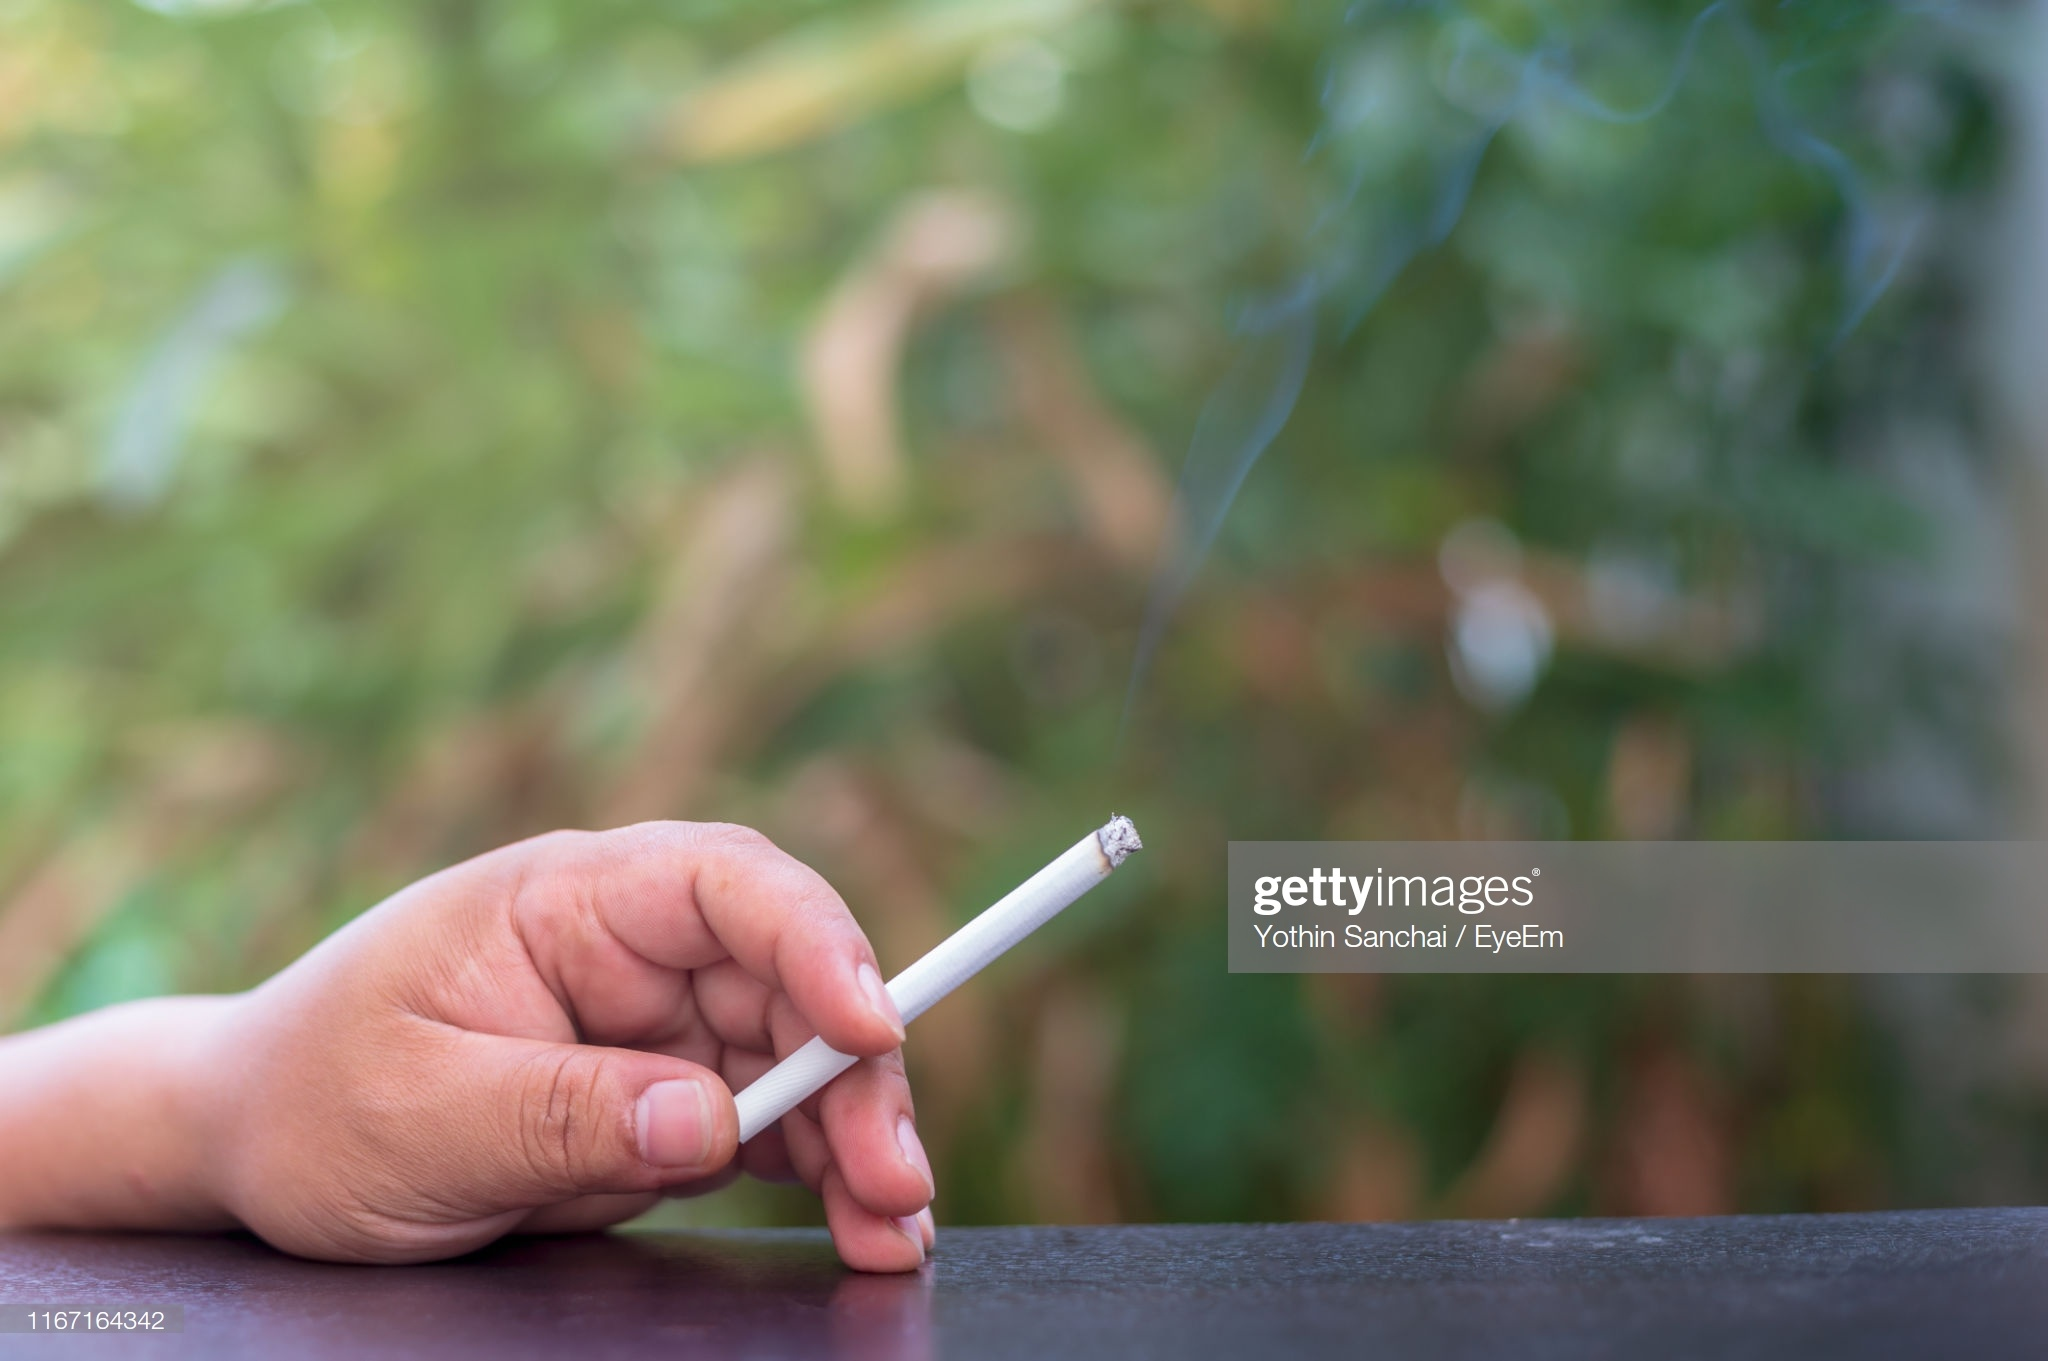sigaretta: (692, 819, 1136, 1138)
